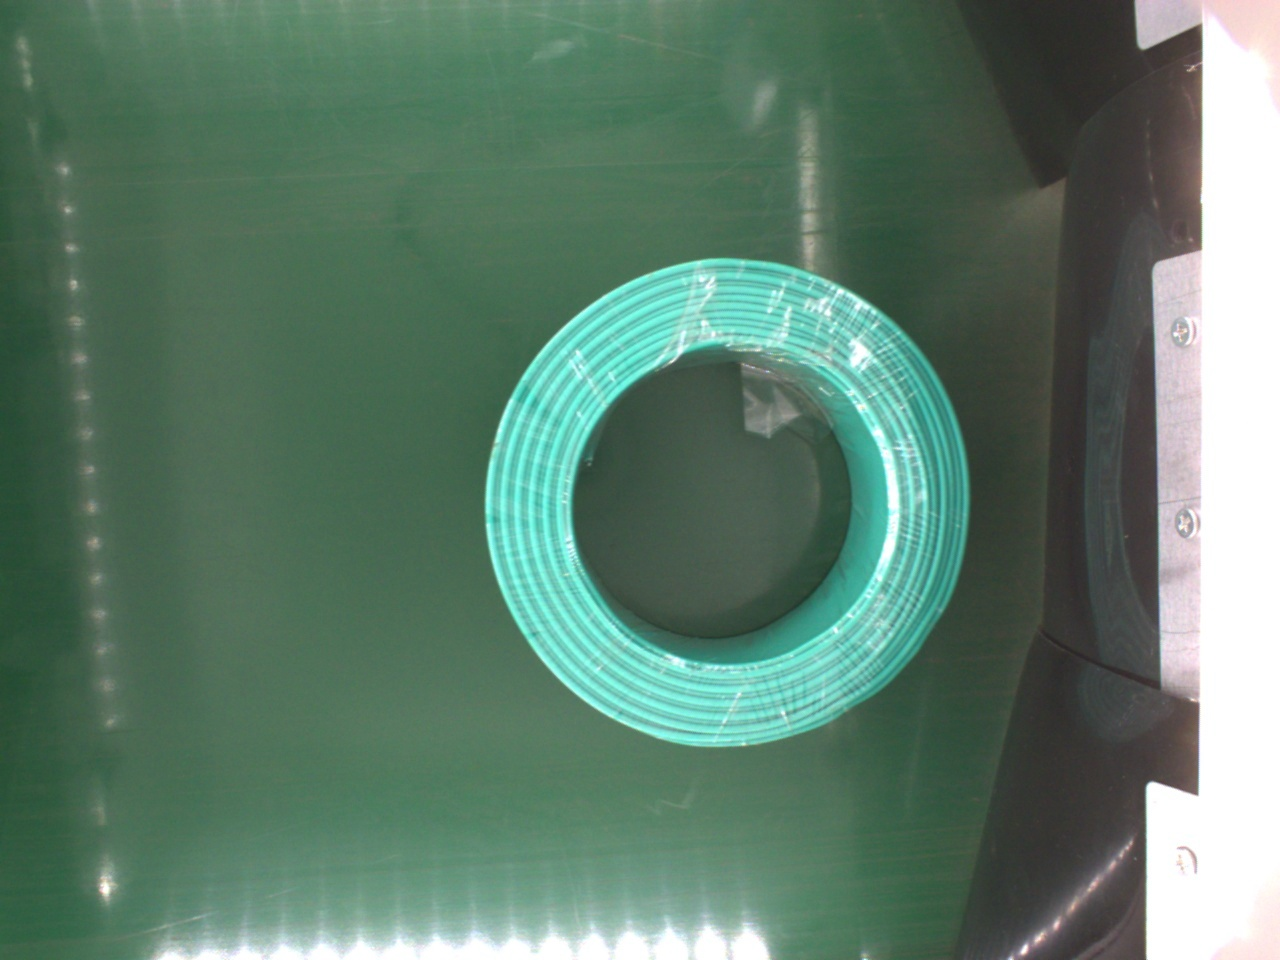green: (479, 255, 969, 750)
